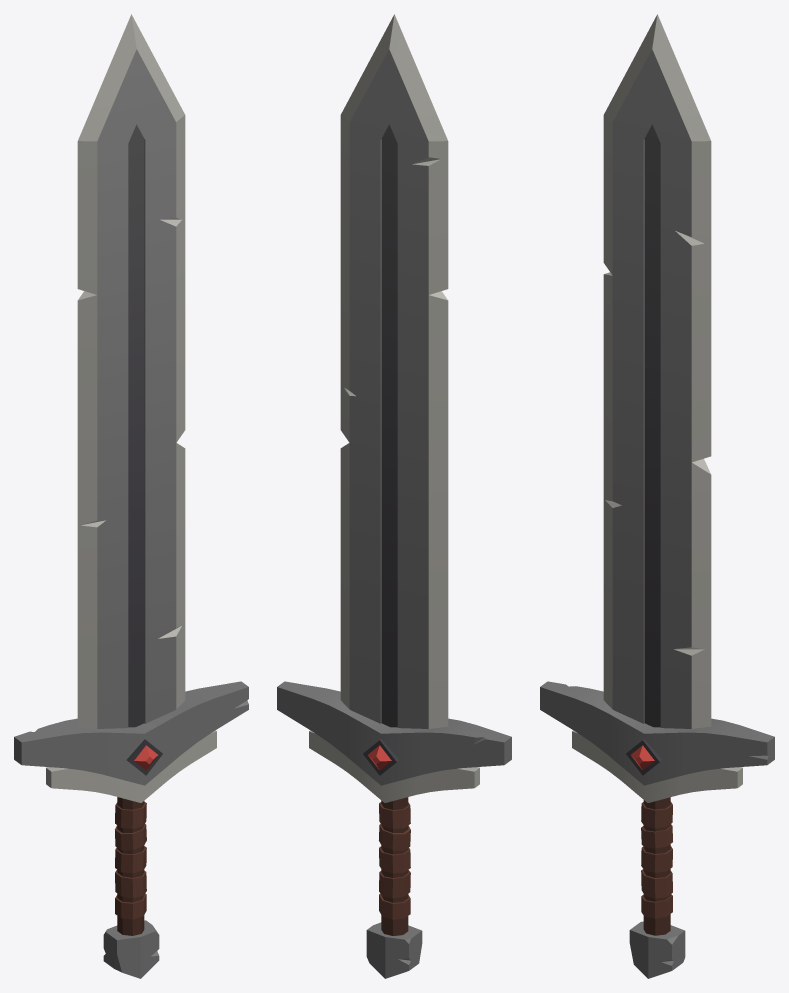
The model's file is Sword_01.glb.
3 views of the same model, side by side, from view 1: azimuth 30°, elevation 25°; view 2: azimuth 150°, elevation 25°; view 3: azimuth 330°, elevation 25° (orthographic).
Visible parts, largest first — view 1: Sword_01; view 2: Sword_01; view 3: Sword_01.
Part boxes in pixels (left/top/right/bottom): Sword_01: left=14, top=14, right=248, bottom=978; Sword_01: left=277, top=14, right=511, bottom=978; Sword_01: left=540, top=14, right=774, bottom=978.
Bounding box in the file's own units: 0.2939 × 1.18 × 0.0815.
Materials: 1 (1 with a texture image).
